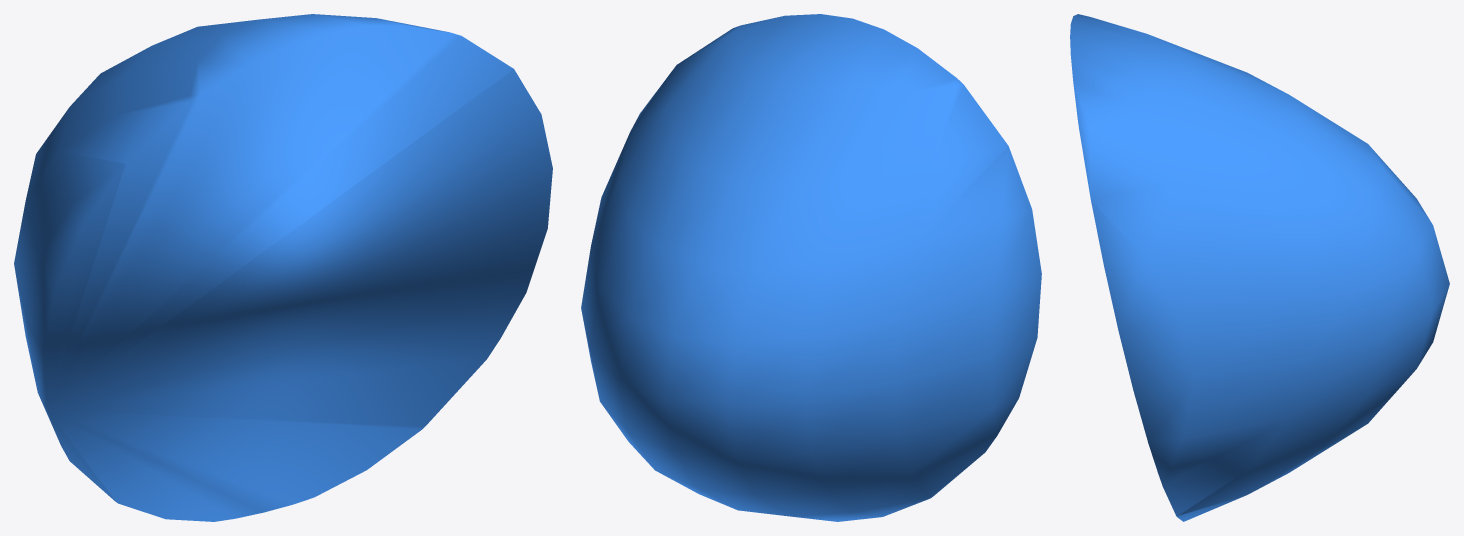
Rendered from nubzuki_right_success.obj.
The picture shows the model from 3 angles, left to right: view 1: azimuth 30°, elevation 25°; view 2: azimuth 150°, elevation 25°; view 3: azimuth 270°, elevation 25°; orthographic projection. The views are drawn at different scales.
Parts seen in each view (by area): view 1: Sphere.001; view 2: Sphere.001; view 3: Sphere.001.
Boxes of the visible parts, box(x1,y1,x2,y2) form: Sphere.001: box(14, 14, 552, 521); Sphere.001: box(581, 14, 1041, 521); Sphere.001: box(1070, 14, 1449, 521).
Size of the model in its own units: 1.53 by 1.53 by 1.15.
1 material, 1 textured.
